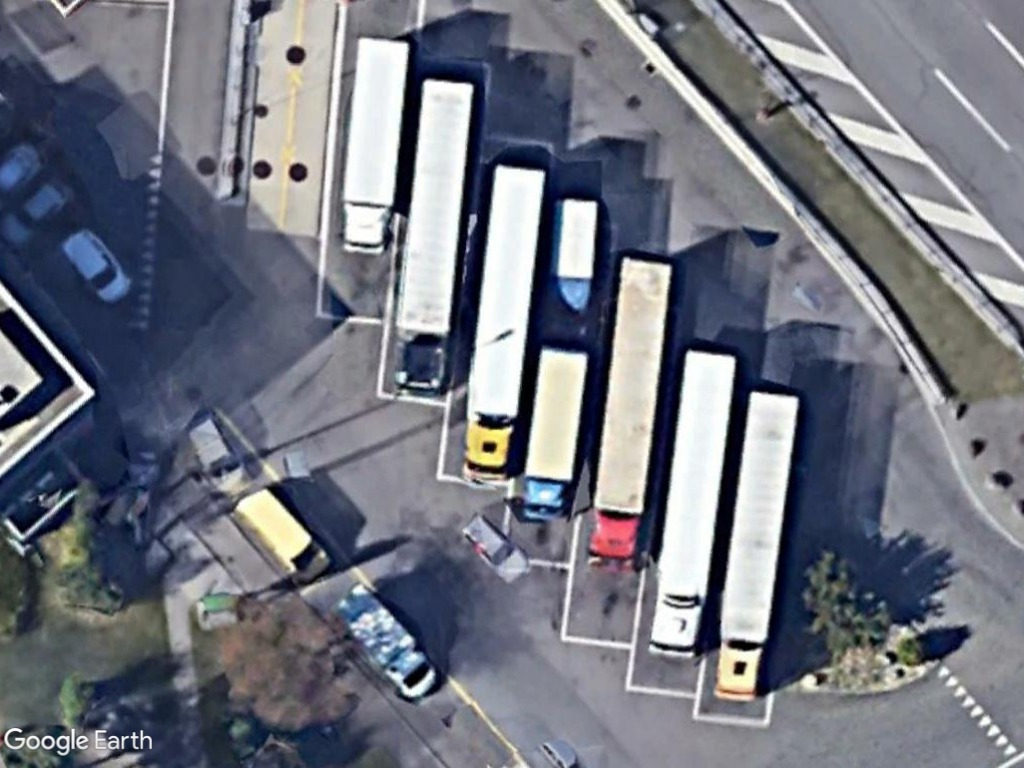car: (60, 225, 133, 307)
longvehicle: (711, 389, 805, 705), (647, 347, 740, 662), (455, 162, 546, 483), (392, 74, 479, 398), (587, 251, 674, 571), (342, 32, 410, 255)
truck: (519, 342, 592, 520)
